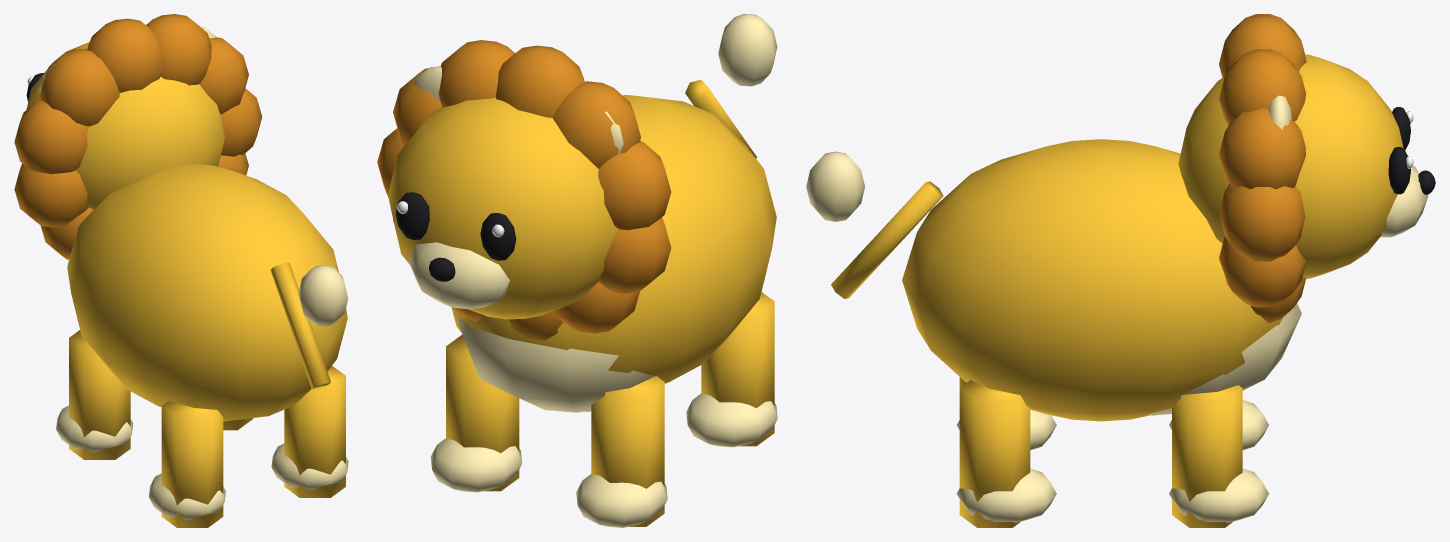
Rendered from Golden Lion.glb.
The picture shows the model from 3 angles, left to right: view 1: azimuth 30°, elevation 25°; view 2: azimuth 150°, elevation 25°; view 3: azimuth 270°, elevation 25°; orthographic projection. The views are drawn at different scales.
Visible parts, largest first — view 1: Golden Lion; view 2: Golden Lion; view 3: Golden Lion.
Boxes of the visible parts, x1,y1,x2,y2 form: Golden Lion: (14, 14, 348, 527); Golden Lion: (377, 14, 777, 527); Golden Lion: (806, 14, 1435, 527).
Size of the model in its own units: 2.12 by 3.42 by 4.27.
Materials: 1 (1 with a texture image).
